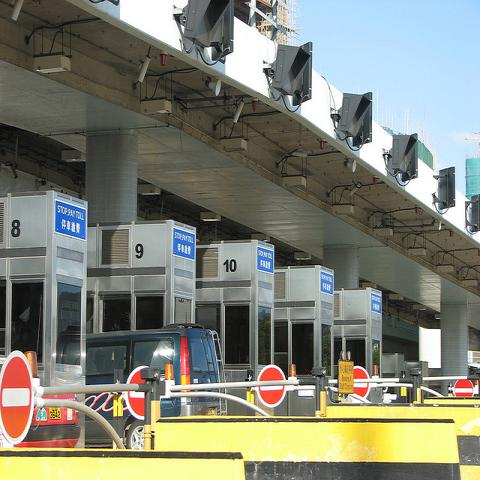car: (86, 317, 230, 450)
